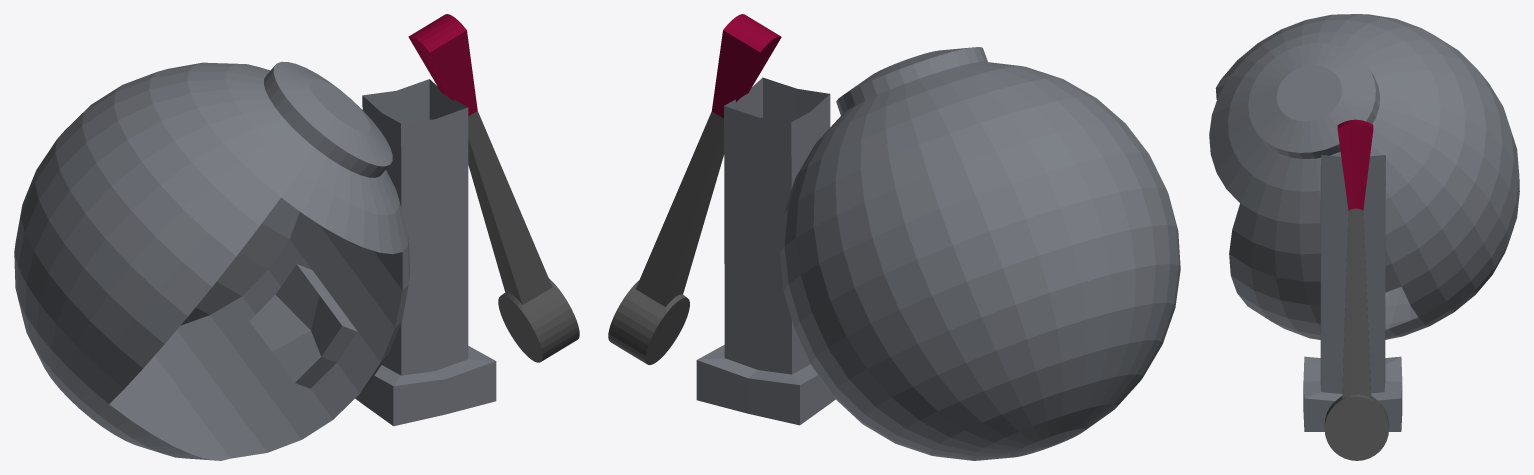
The model's file is BrokenBreakerBox.fbx.
3 views of the same model, side by side, from view 1: azimuth 30°, elevation 25°; view 2: azimuth 150°, elevation 25°; view 3: azimuth 270°, elevation 25° (orthographic). The views are drawn at different scales.
Visible parts, largest first — view 1: FuseBox, FuseBox.001, Handle; view 2: FuseBox, FuseBox.001, Handle; view 3: FuseBox, FuseBox.001, Handle.
Boxes of the visible parts, box(x1,y1,x2,y2) form: FuseBox: box(14, 61, 410, 460); FuseBox.001: box(355, 79, 496, 426); Handle: box(408, 14, 579, 362); FuseBox: box(780, 47, 1180, 460); FuseBox.001: box(696, 77, 835, 425); Handle: box(608, 14, 781, 364); FuseBox: box(1209, 14, 1519, 339); FuseBox.001: box(1303, 155, 1402, 431); Handle: box(1324, 119, 1389, 460).
Size of the model in its own units: 308 by 203 by 188.
